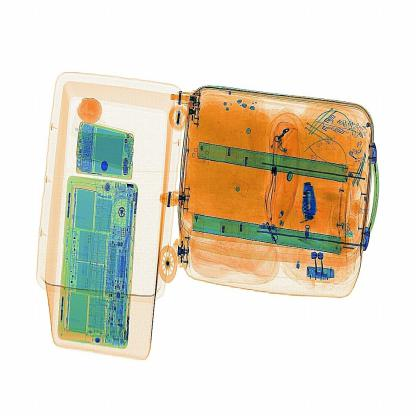scissors: (300, 180, 319, 222)
